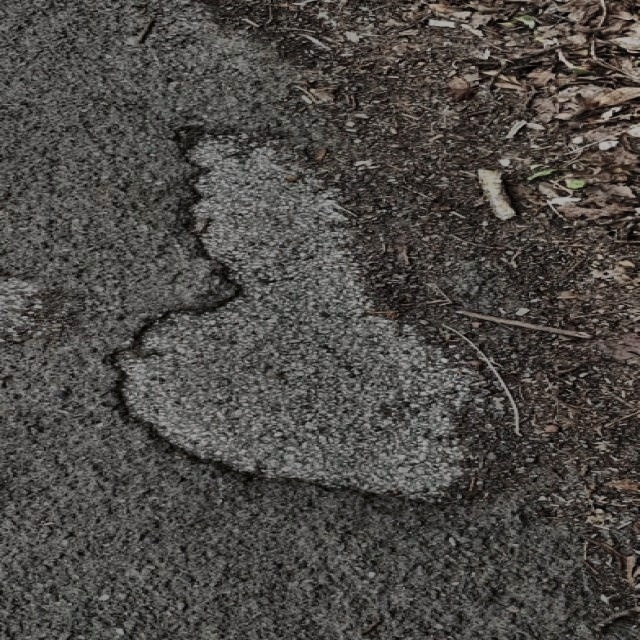Pothole: (106, 120, 521, 510)
